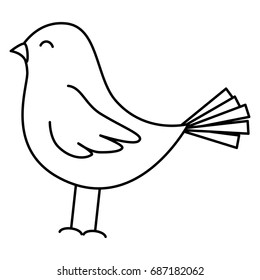bird: (8, 21, 252, 241)
